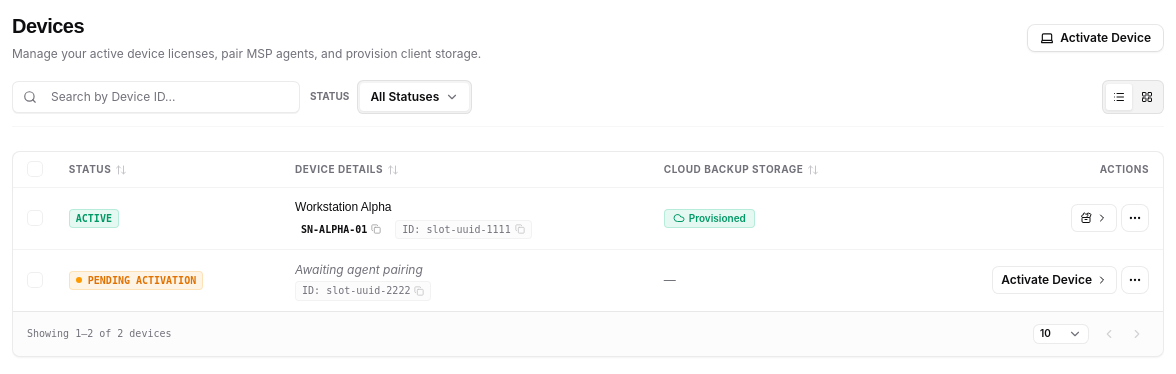
DevicesPage › filters device slots by device ID (id) using the search bar
Check: the text "Workstation Alpha" is shown, box left=295, top=198, right=392, bottom=218
Check: the text "PENDING ACTIVATION" is shown, box left=69, top=271, right=203, bottom=290
Search by partial/full UUID of the active slot
In the field with placeholder "Search by Device ID...": (171, 96) left=43, top=82, right=299, bottom=112, type "1111"
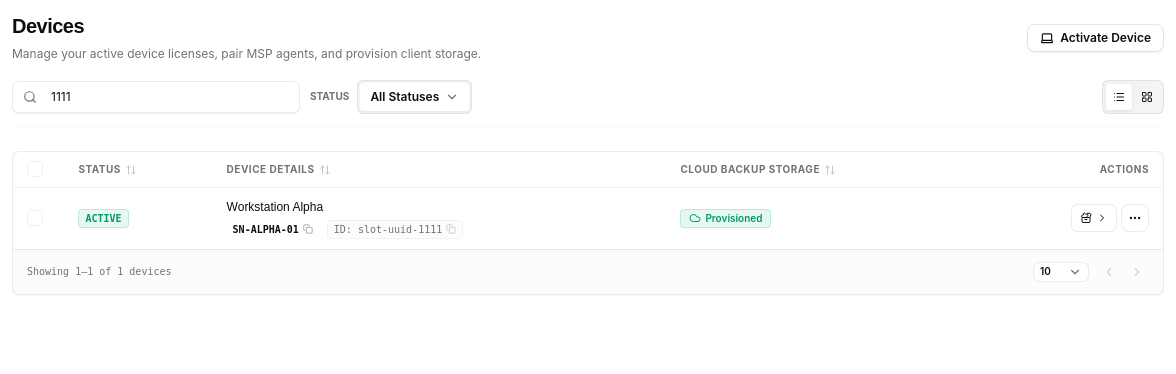
Check: the text "Workstation Alpha" is shown, box left=227, top=198, right=323, bottom=218
Check: the text "PENDING ACTIVATION" is gone
Clear search and ensure all return
Clear the field with placeholder "Search by Device ID...": (171, 96) left=43, top=82, right=299, bottom=112
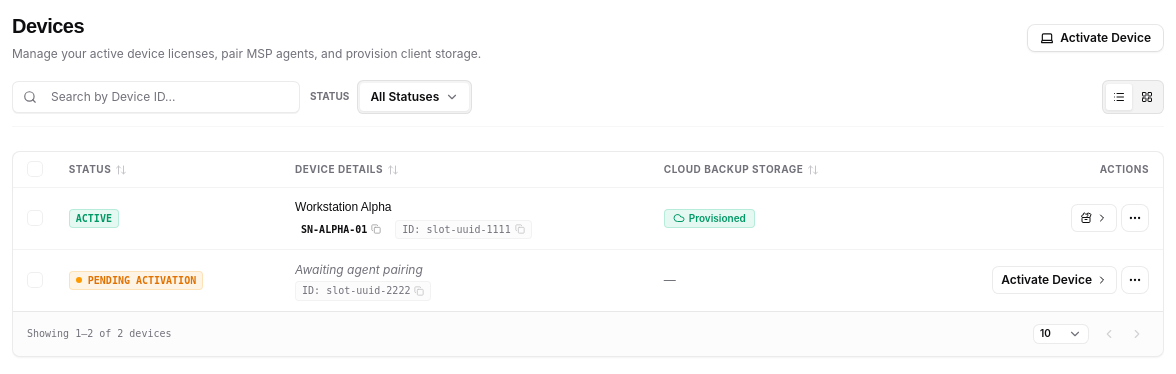
Check: the text "Workstation Alpha" is shown, box left=295, top=198, right=392, bottom=218
Check: the text "PENDING ACTIVATION" is shown, box left=69, top=271, right=203, bottom=290
